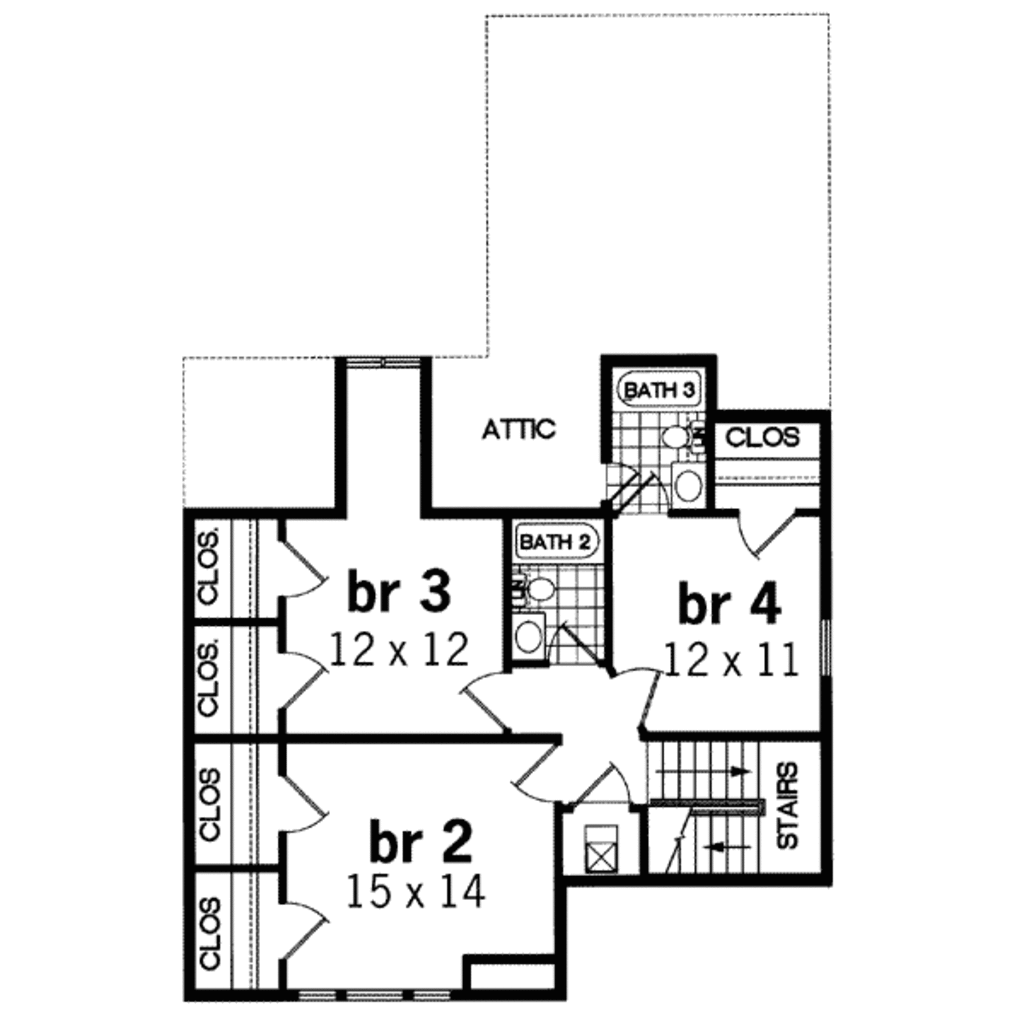coffee_table: (584, 838, 621, 873)
door: (612, 658, 667, 733), (738, 503, 805, 561), (456, 667, 508, 734), (276, 537, 330, 599), (513, 741, 561, 810), (274, 901, 331, 958), (278, 649, 331, 709), (570, 761, 638, 807), (277, 775, 328, 836)
large_sink: (658, 414, 709, 454), (501, 574, 556, 608)
small_sink: (672, 458, 712, 510), (513, 611, 547, 662)
stairs: (641, 739, 771, 880)
tub: (610, 366, 712, 420), (508, 516, 609, 570)
windows: (290, 985, 459, 1007), (337, 349, 429, 374)
